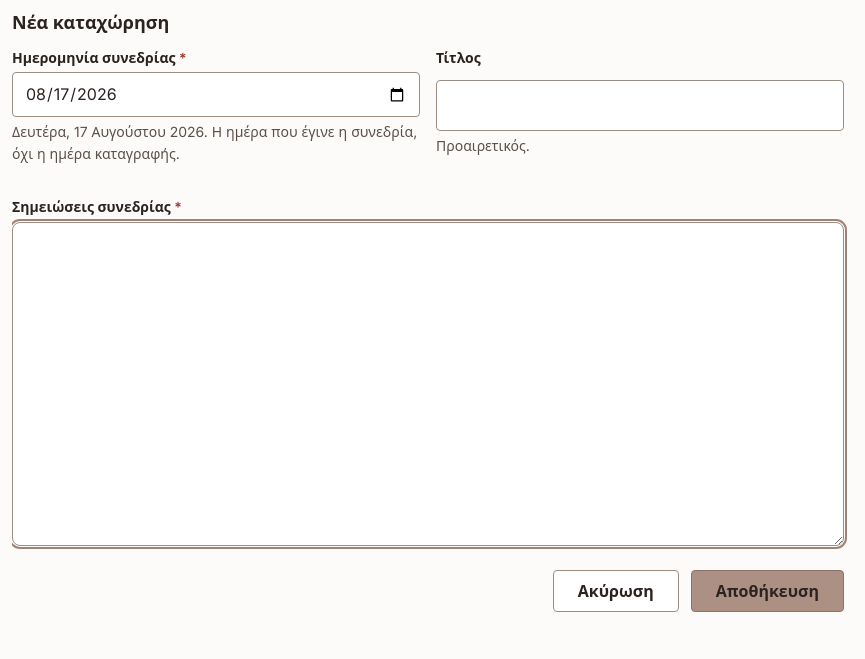
Test: JournalEntryForm › should refuse an entry with no text
This screenshot has width=865, height=659.
Click the button "Αποθήκευση". click: x=767, y=591
box: [691,570,844,612]
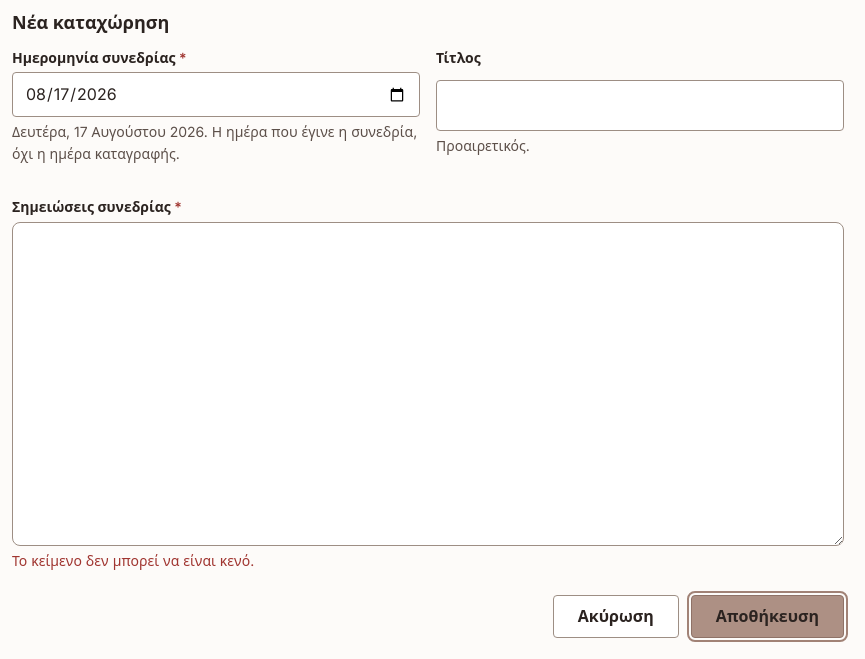
Check: the text "Το κείμενο δεν μπορεί να είναι κενό." is shown, box [12,552,254,569]
